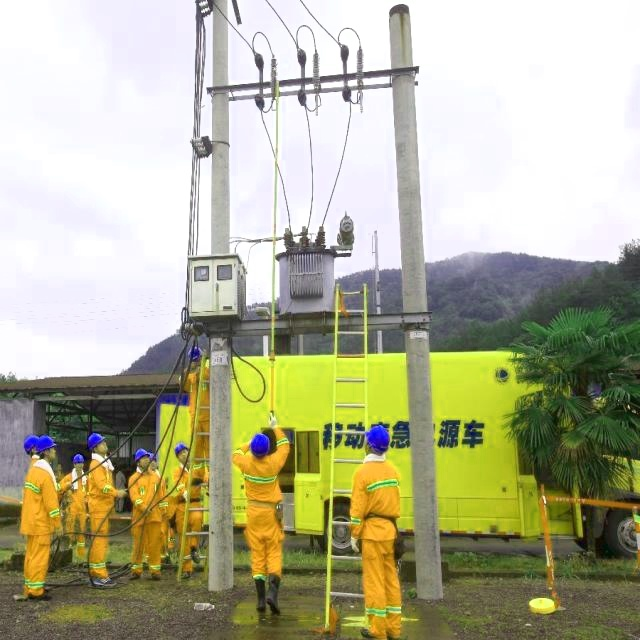Con_Casco: (366, 423, 389, 458), (250, 433, 270, 457), (90, 432, 109, 453)
Con_Chaleco: (354, 462, 402, 537), (243, 457, 281, 514)
